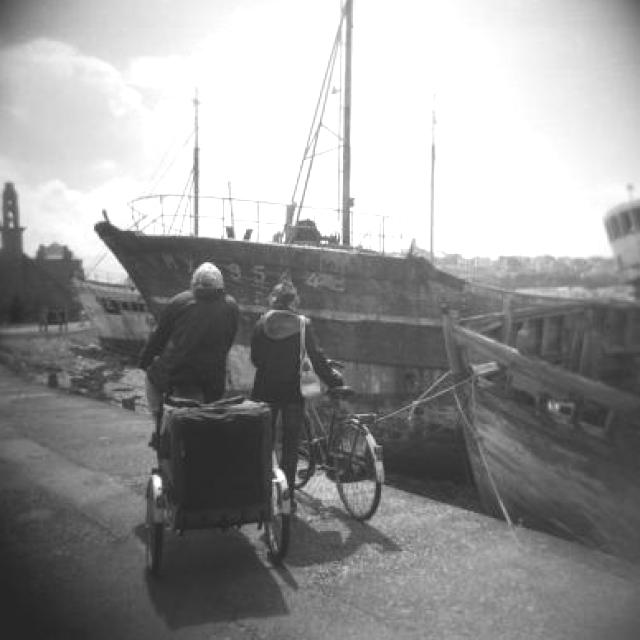ship: (89, 146, 640, 446)
